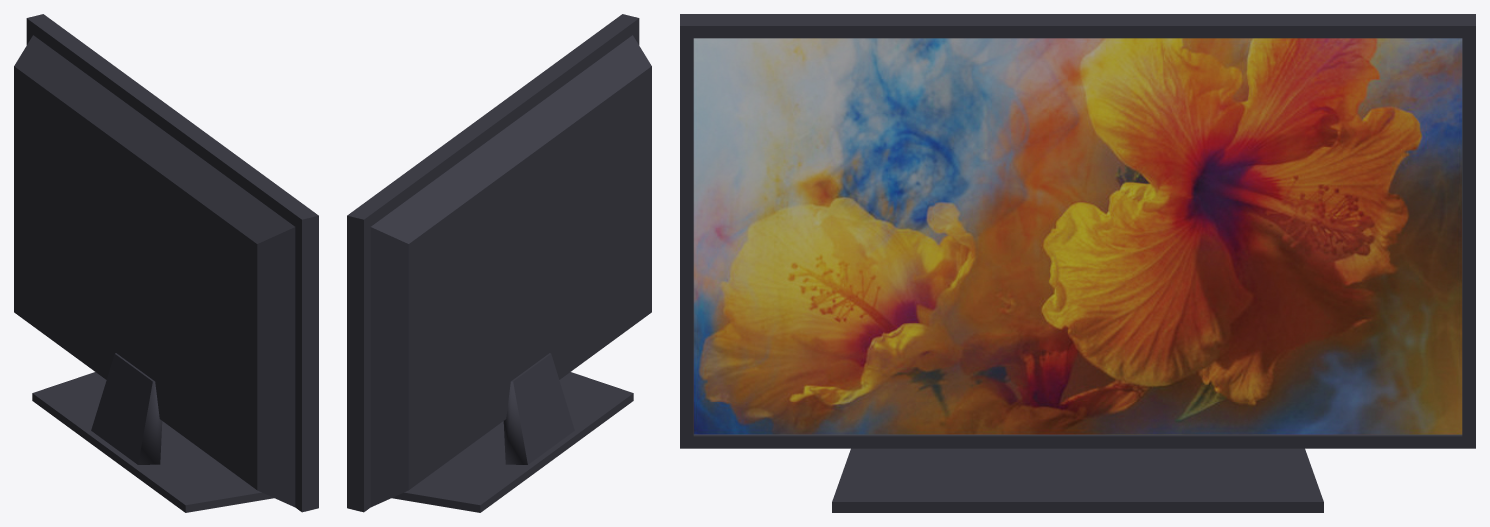
File: 70C25813-5023-42BA-A679-E7B757CEA6D6.dae
3 renders of one model, left to right at view 1: azimuth 30°, elevation 25°; view 2: azimuth 150°, elevation 25°; view 3: azimuth 270°, elevation 25°, orthographic. The views are drawn at different scales.
Visible parts, largest first — view 1: TV_43; view 2: TV_43; view 3: TV_43.
Boxes of the visible parts, left/top/right/bottom form: TV_43: left=14, top=14, right=318, bottom=512; TV_43: left=347, top=14, right=651, bottom=512; TV_43: left=680, top=14, right=1475, bottom=512.
Bounding box in the file's own units: 0.2 × 0.9709 × 0.631.
Materials: 2 (2 with a texture image).
